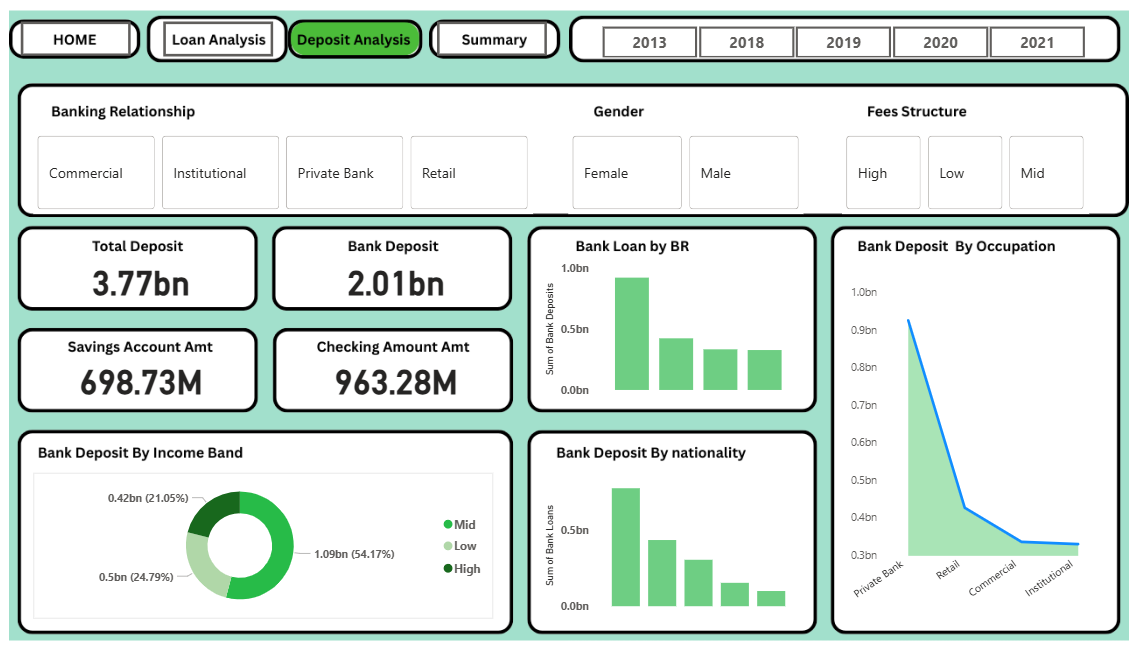

What the dashboard file says about the page in this screenshot:
{"tool":"powerbi","page":{"name":"Deposit Analysis","canvas":[1318,752],"ordinal":2},"visuals":[{"type":"slicer","fields":{"Values":["banking_case customer.Year of Joining"]},"box":[671.2,24,601.9,42.4],"z":0},{"type":"card","fields":{"Values":["banking_case customer.Total Deposit"]},"box":[83.4,293.9,175.2,53.7],"z":1000},{"type":"card","fields":{"Values":["Sum(banking_case customer.Bank Deposits)"]},"box":[374.4,293.9,175.2,53.7],"z":2000},{"type":"card","fields":{"Values":["Sum(banking_case customer.Saving Accounts)"]},"box":[83.4,406.9,175.2,53.7],"z":3000},{"type":"card","fields":{"Values":["Sum(banking_case customer.Checking Accounts)"]},"box":[374.4,406.9,175.2,53.7],"z":4000},{"type":"donutChart","fields":{"Y":["Sum(banking_case customer.Bank Deposits)"],"Category":["banking_case customer.Income Band"]},"box":[46.6,541.2,525.6,166.7],"z":5000},{"type":"clusteredColumnChart","fields":{"Category":["banking_case customer.BRId"],"Y":["Sum(banking_case customer.Bank Deposits)"]},"box":[627.4,293.9,302.4,166.7],"z":6000},{"type":"clusteredColumnChart","fields":{"Category":["banking_case customer.Nationality"],"Y":["Sum(banking_case customer.Bank Loans)"]},"box":[627.4,541.2,302.4,166.7],"z":7000},{"type":"advancedSlicerVisual","fields":{"Values":["banking_case customer.BRId"]},"box":[46.6,151.2,570.8,94.7],"z":8000},{"type":"advancedSlicerVisual","fields":{"Values":["banking_case customer.GenderId"]},"box":[658.4,151.2,268.5,94.7],"z":9000},{"type":"advancedSlicerVisual","fields":{"Values":["banking_case customer.Fee Structure"]},"box":[972.1,151.2,282.6,94.7],"z":10000},{"type":"stackedAreaChart","fields":{"Y":["Sum(banking_case customer.Bank Deposits)"],"Category":["banking_case customer.BRId"]},"box":[972.1,320.7,301,387.1],"z":11000},{"type":"actionButton","box":[33.5,26.3,125.7,39.5],"z":12000},{"type":"actionButton","box":[196.4,26.3,125.7,39.5],"z":13000},{"type":"actionButton","box":[508.9,26.3,125.7,39.5],"z":14000}]}

Visuals, with their boxes in screenshot pixels (x1, y1, x2, y2), scaled from the page's 1318x752 canvas onto the 1139x649 screenshot:
slicer - banking_case customer.Year of Joining: region(580, 21, 1100, 57)
card - banking_case customer.Total Deposit: region(72, 254, 223, 300)
card - Sum(banking_case customer.Bank Deposits): region(324, 254, 475, 300)
card - Sum(banking_case customer.Saving Accounts): region(72, 351, 223, 398)
card - Sum(banking_case customer.Checking Accounts): region(324, 351, 475, 398)
donutChart - Sum(banking_case customer.Bank Deposits) x banking_case customer.Income Band: region(40, 467, 494, 611)
clusteredColumnChart - banking_case customer.BRId x Sum(banking_case customer.Bank Deposits): region(542, 254, 804, 398)
clusteredColumnChart - banking_case customer.Nationality x Sum(banking_case customer.Bank Loans): region(542, 467, 804, 611)
advancedSlicerVisual - banking_case customer.BRId: region(40, 130, 534, 212)
advancedSlicerVisual - banking_case customer.GenderId: region(569, 130, 801, 212)
advancedSlicerVisual - banking_case customer.Fee Structure: region(840, 130, 1084, 212)
stackedAreaChart - Sum(banking_case customer.Bank Deposits) x banking_case customer.BRId: region(840, 277, 1100, 611)
actionButton: region(29, 23, 138, 57)
actionButton: region(170, 23, 278, 57)
actionButton: region(440, 23, 548, 57)
